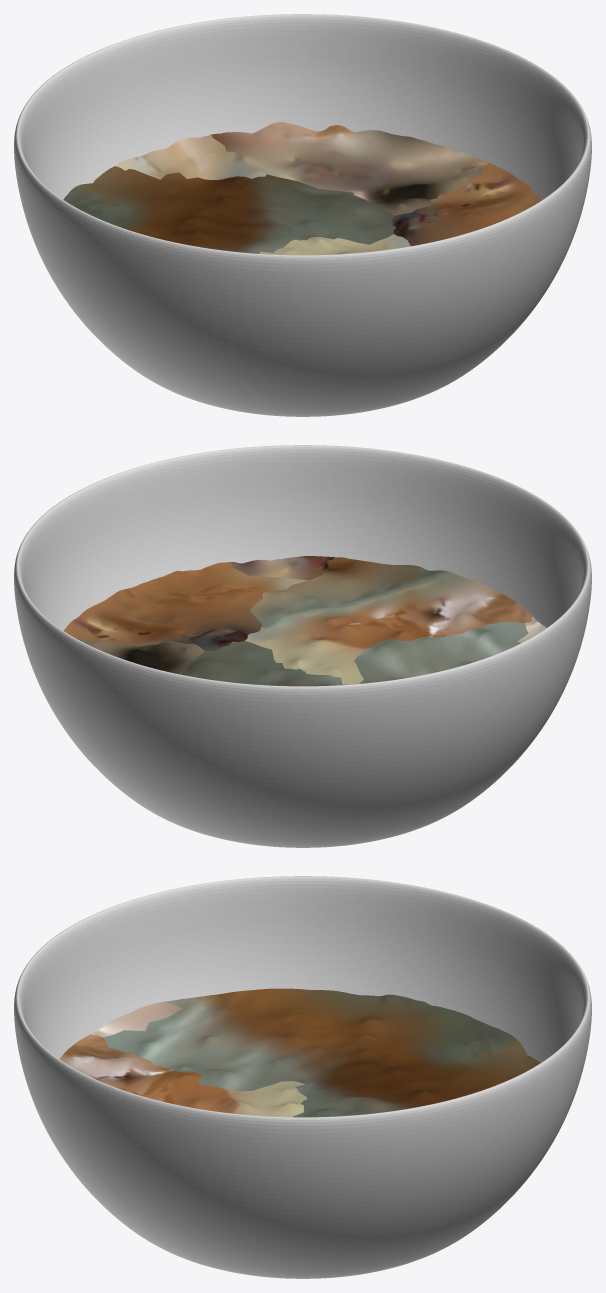
File: soup2.fbx
3 views of the same model, one above another, from view 1: azimuth 30°, elevation 25°; view 2: azimuth 150°, elevation 25°; view 3: azimuth 270°, elevation 25° (orthographic).
Parts seen in each view (by area): view 1: Sphere, 3DModel; view 2: Sphere, 3DModel; view 3: Sphere, 3DModel.
Boxes of the visible parts, left/top/right/bottom form: Sphere: left=14, top=14, right=591, bottom=416; 3DModel: left=63, top=122, right=541, bottom=255; Sphere: left=14, top=445, right=591, bottom=847; 3DModel: left=49, top=556, right=546, bottom=697; Sphere: left=14, top=876, right=591, bottom=1278; 3DModel: left=59, top=988, right=540, bottom=1159.
Size of the model in its own units: 29.54 by 12.37 by 29.54.
